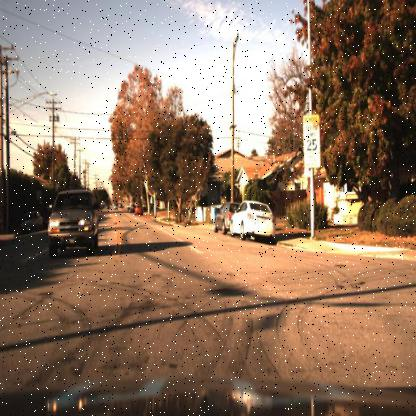car: (41, 178, 100, 252), (228, 200, 276, 242), (209, 200, 231, 238), (107, 198, 120, 212), (134, 204, 146, 218), (127, 204, 135, 216)
